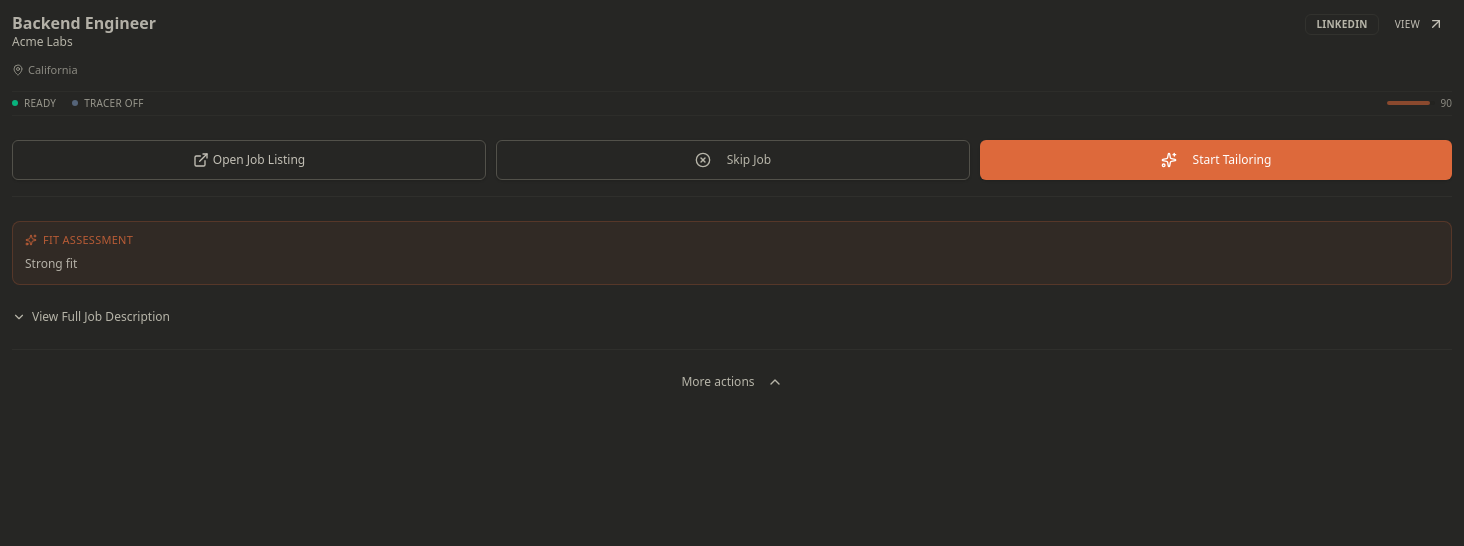
Scenario: DiscoveredPanel › renders markdown formatting in the expanded job description when markdown rendering is enabled
Click the button "View Full Job Description": (101, 316) 12,308 -> 1452,324
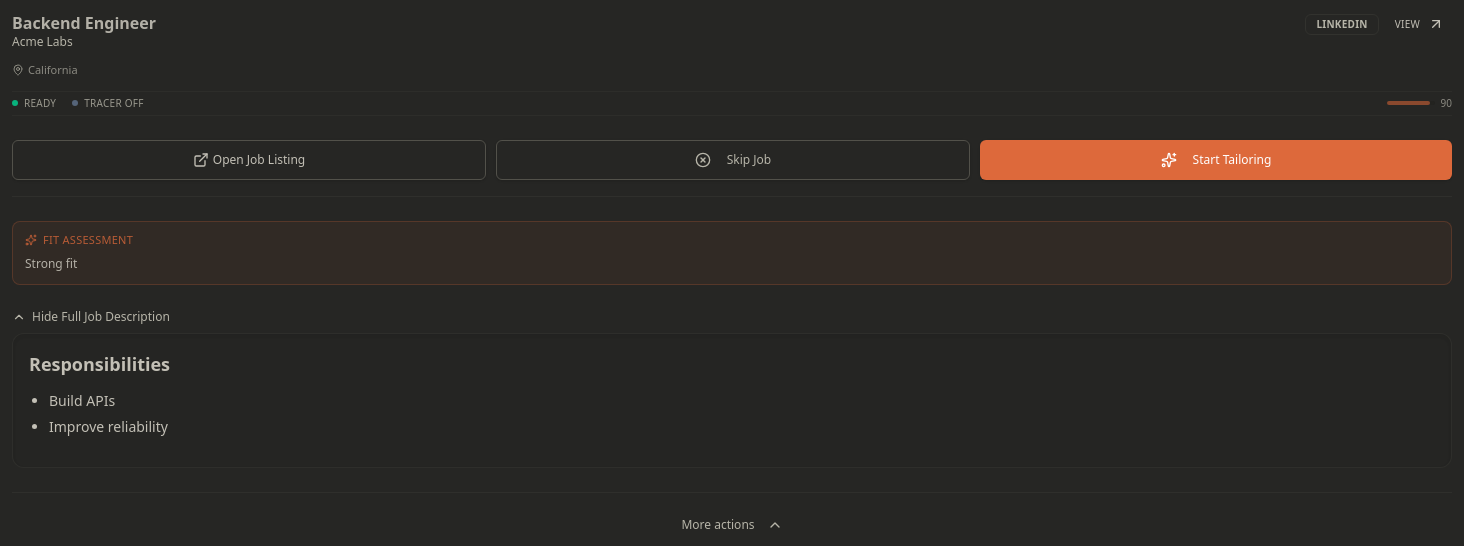
Expected: the heading "Responsibilities" is shown, 29,352 -> 170,376
Expected: the list item "Build APIs" is shown, 49,390 -> 115,410
